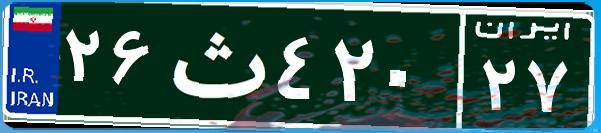0: (385, 28, 445, 110)
2: (330, 28, 385, 110), (57, 26, 110, 107), (475, 38, 525, 113)
4: (273, 28, 330, 110)
6: (110, 28, 158, 105)
7: (525, 38, 570, 115)
ث: (158, 15, 273, 115)
